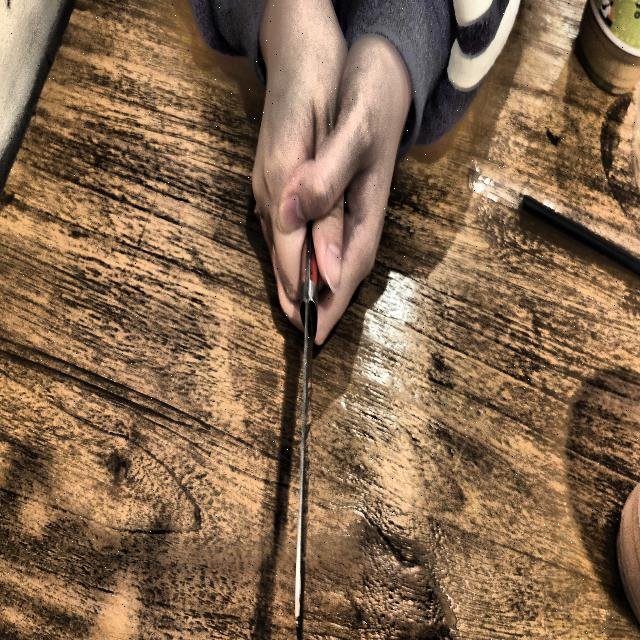knife: (291, 216, 322, 640)
